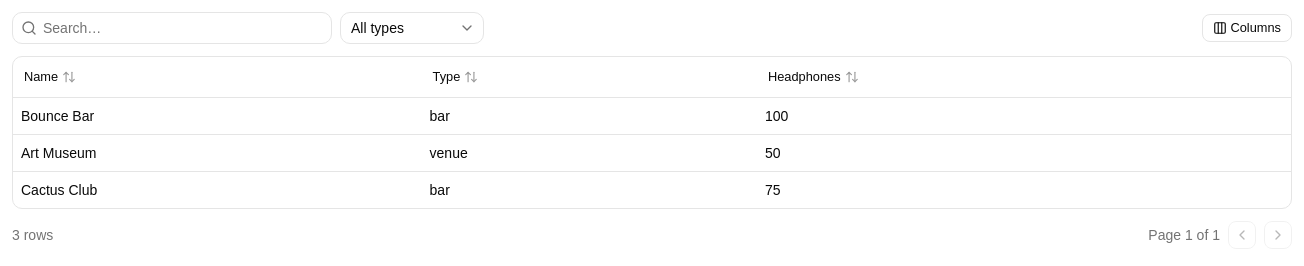
Test: DataTable › shows the empty message when nothing matches
Type "zzz" into the field labelled "Search…" at (184, 28), box x1=37 y1=12 x2=331 y2=44
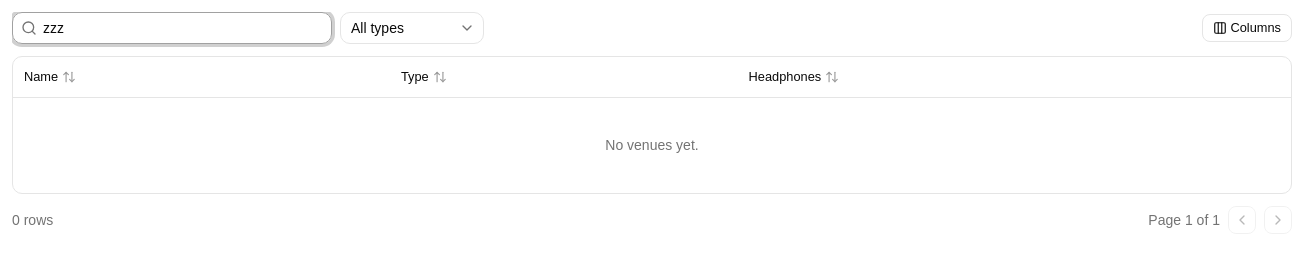
Expected: the text "No venues yet." is shown, x1=13 y1=97 x2=1291 y2=193
